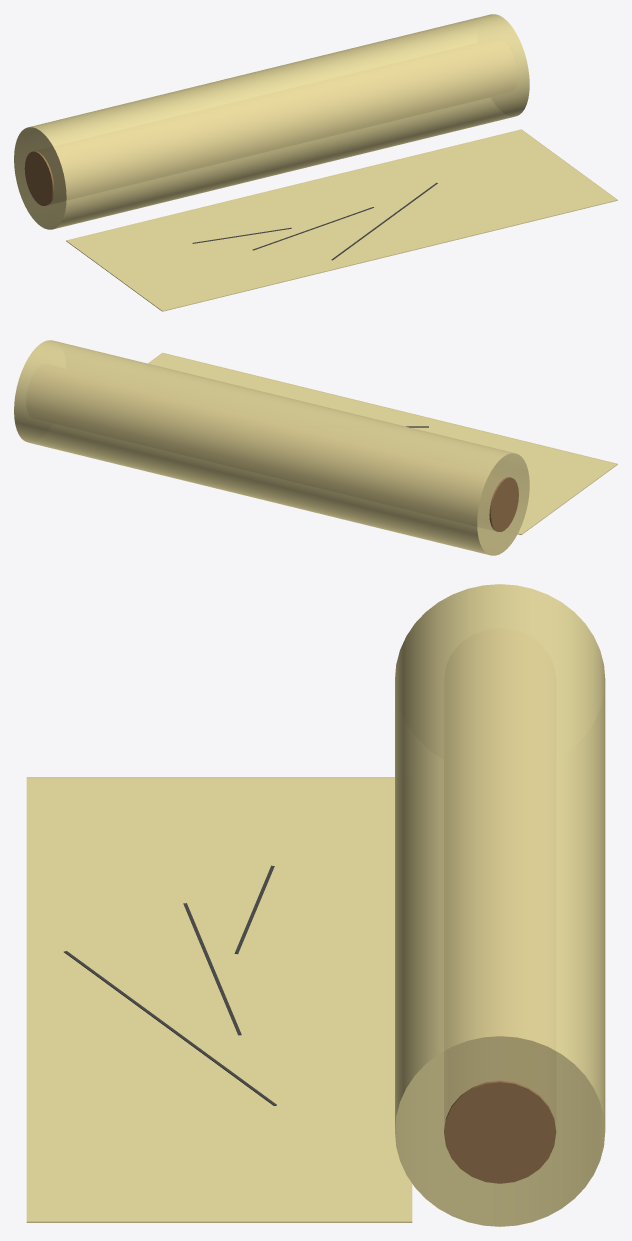
The model's file is herodesk-arch-trace-roll.glb.
3 views of the same model, one above another, from view 1: azimuth 30°, elevation 25°; view 2: azimuth 150°, elevation 25°; view 3: azimuth 270°, elevation 25° (orthographic). The views are drawn at different scales.
Visible parts, largest first — view 1: herodesk-arch-trace-roll · mesh; view 2: herodesk-arch-trace-roll · mesh; view 3: herodesk-arch-trace-roll · mesh.
Boxes of the visible parts, x1=… form: herodesk-arch-trace-roll · mesh: x1=14, y1=14, x2=617, y2=311; herodesk-arch-trace-roll · mesh: x1=14, y1=340, x2=617, y2=555; herodesk-arch-trace-roll · mesh: x1=26, y1=584, x2=605, y2=1226.
Size of the model in its own units: 0.307 by 0.06 by 0.165.
